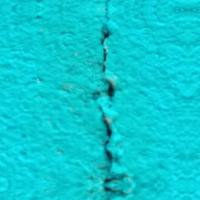crack: (86, 2, 135, 198)
